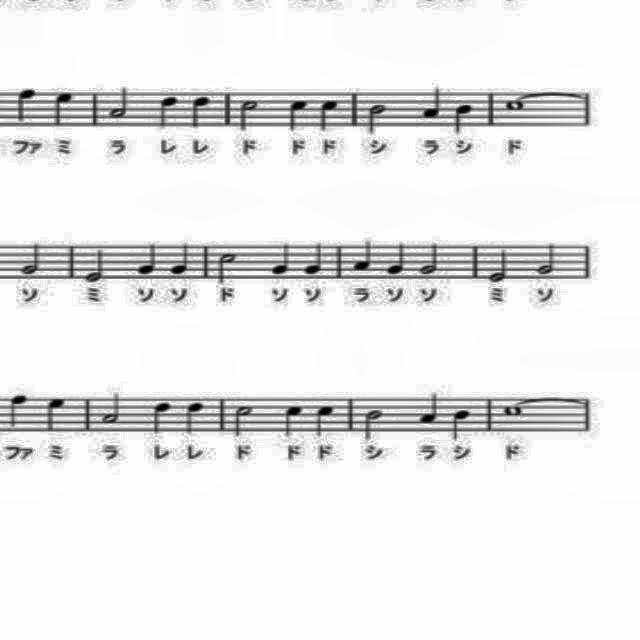Full-note: (501, 97, 531, 115), (502, 401, 526, 419)
Half-note: (484, 243, 512, 285), (534, 238, 562, 278), (98, 391, 126, 431), (238, 97, 264, 139), (84, 243, 110, 285), (214, 247, 242, 286), (360, 407, 388, 445), (19, 240, 45, 280), (418, 239, 444, 277), (107, 81, 129, 123), (366, 99, 390, 137), (233, 404, 254, 441)
Quarter-note: (48, 87, 76, 129), (146, 398, 174, 438), (420, 81, 444, 125), (136, 236, 160, 280), (4, 392, 30, 432), (182, 400, 208, 440), (316, 97, 340, 139), (40, 396, 68, 432), (448, 407, 476, 443), (188, 93, 214, 131), (279, 404, 305, 441), (156, 92, 180, 132), (386, 240, 410, 280), (314, 401, 338, 441), (15, 86, 40, 124), (286, 98, 310, 136), (452, 100, 476, 138), (352, 235, 376, 272), (418, 392, 442, 428), (269, 239, 291, 277), (170, 239, 190, 277), (304, 240, 324, 276)
